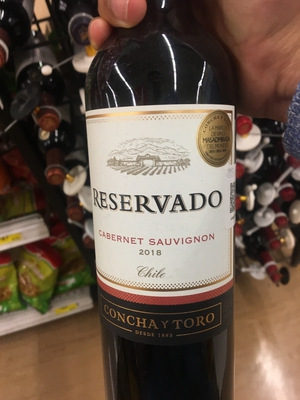reservado cabernet sauvignon: (81, 6, 244, 400)
